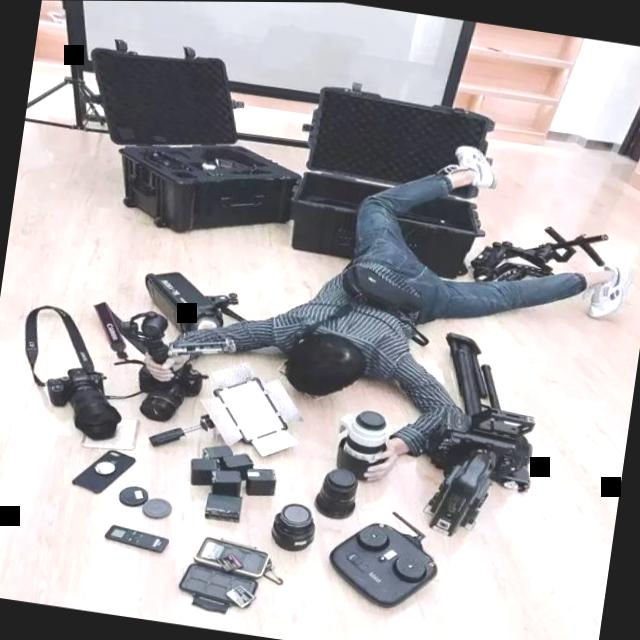Fall-Detected: (133, 99, 640, 503)
